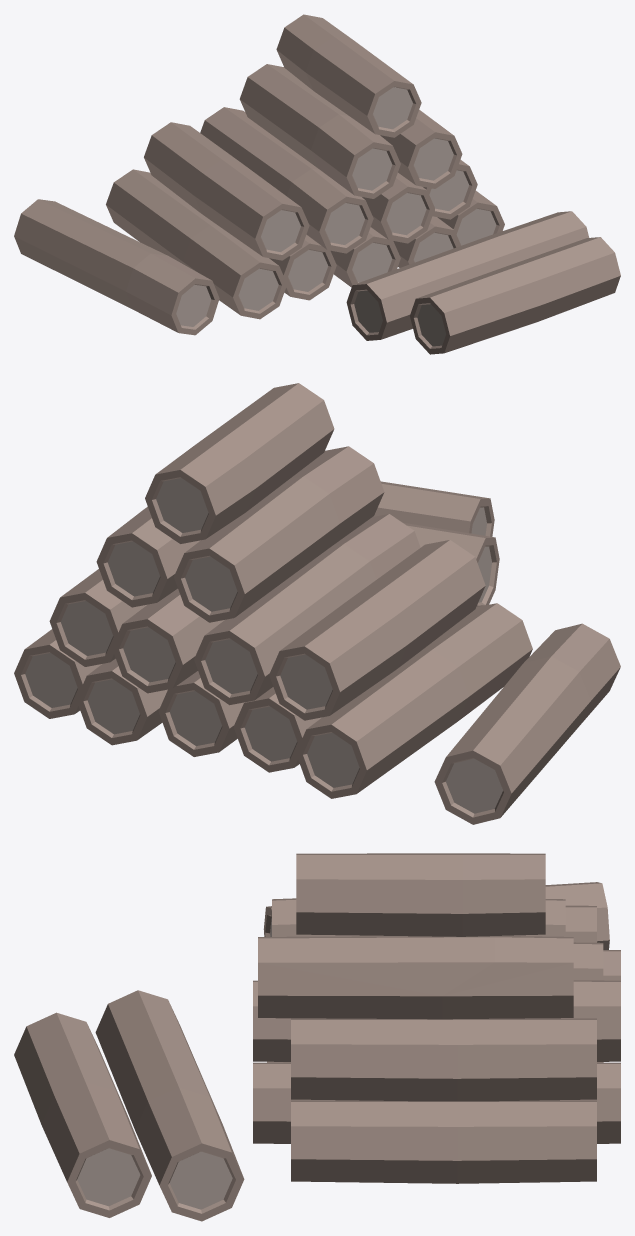
File: fp_timber.glb
3 renders of one model, top to bottom at view 1: azimuth 30°, elevation 25°; view 2: azimuth 150°, elevation 25°; view 3: azimuth 270°, elevation 25°, orthographic. The views are drawn at different scales.
Visible parts, largest first — view 1: timber_a001; view 2: timber_a001; view 3: timber_a001.
Part boxes in pixels (x1,y1,x2,y2): timber_a001: (14, 14, 620, 354); timber_a001: (14, 383, 620, 824); timber_a001: (14, 853, 620, 1221).
Bounding box in the file's own units: 0.4107 × 0.1859 × 0.3747.
